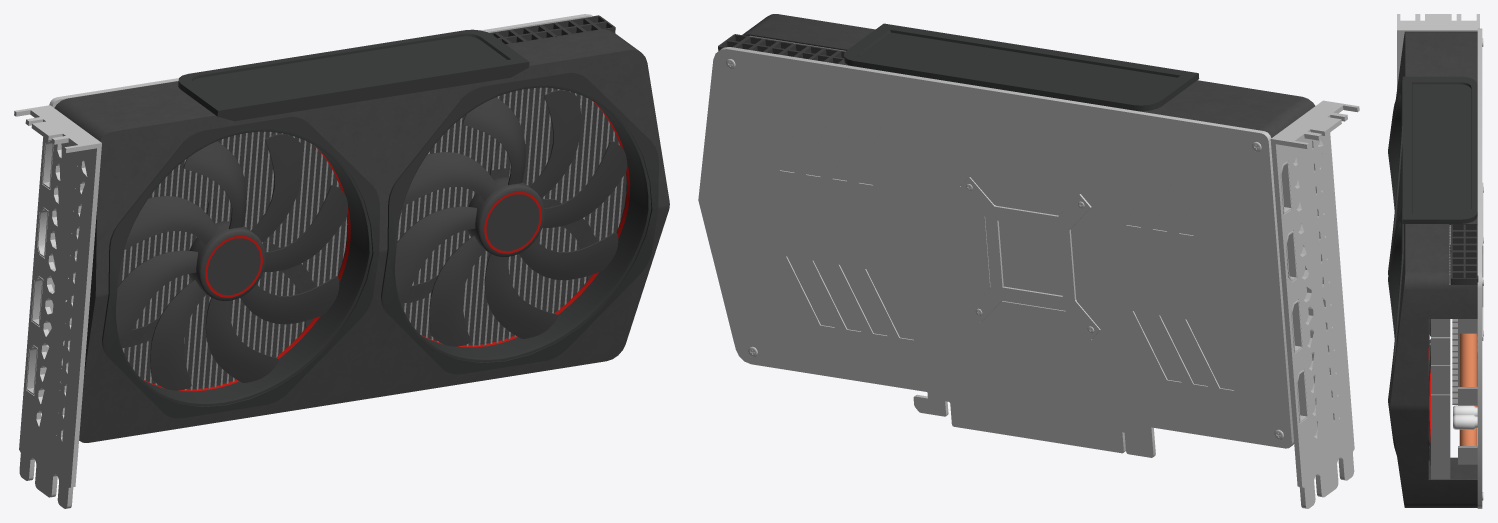
The model's file is GPU_2.fbx.
3 views of the same model, side by side, from view 1: azimuth 30°, elevation 25°; view 2: azimuth 150°, elevation 25°; view 3: azimuth 270°, elevation 25° (orthographic). The views are drawn at different scales.
Parts seen in each view (by area): view 1: Base_gpu2, CoolingParts_Metal_gpu2, Fan_1_gpu2, Fan_2_gpu2, Side Metal Part_gpu2, Port's_gpu2, VGA's_gpu2, Card_gpu2; view 2: Card_gpu2.001, Card_gpu2, Base_gpu2, Side Metal Part_gpu2, Port's_gpu2, VGA's_gpu2; view 3: Base_gpu2, CoolingParts_Metal_gpu2, CoolingParts_gpu2, Card_gpu2, VGA's_gpu2, Side Metal Part_gpu2, Card_gpu2.001, Chips_gpu2.
Part boxes in pixels (x1=…): Base_gpu2: x1=41, y1=29, x2=669, y2=442; CoolingParts_Metal_gpu2: x1=117, y1=87, x2=626, y2=390; Fan_1_gpu2: x1=116, y1=134, x2=347, y2=390; Fan_2_gpu2: x1=395, y1=90, x2=626, y2=346; Side Metal Part_gpu2: x1=14, y1=105, x2=101, y2=508; Port's_gpu2: x1=26, y1=140, x2=64, y2=394; VGA's_gpu2: x1=489, y1=15, x2=615, y2=44; Card_gpu2: x1=43, y1=14, x2=592, y2=395; Card_gpu2.001: x1=698, y1=48, x2=1292, y2=448; Card_gpu2: x1=722, y1=47, x2=1294, y2=457; Base_gpu2: x1=742, y1=14, x2=1315, y2=137; Side Metal Part_gpu2: x1=1270, y1=100, x2=1359, y2=508; Port's_gpu2: x1=1280, y1=161, x2=1307, y2=422; VGA's_gpu2: x1=718, y1=34, x2=845, y2=63; Base_gpu2: x1=1388, y1=31, x2=1477, y2=507; CoolingParts_Metal_gpu2: x1=1431, y1=225, x2=1450, y2=479; CoolingParts_gpu2: x1=1452, y1=319, x2=1477, y2=464; Card_gpu2: x1=1477, y1=28, x2=1481, y2=508; VGA's_gpu2: x1=1451, y1=224, x2=1478, y2=284; Side Metal Part_gpu2: x1=1397, y1=14, x2=1479, y2=244; Card_gpu2.001: x1=1481, y1=28, x2=1483, y2=508; Chips_gpu2: x1=1453, y1=336, x2=1477, y2=429.
Size of the model in its own units: 487 by 284 by 84.33.
